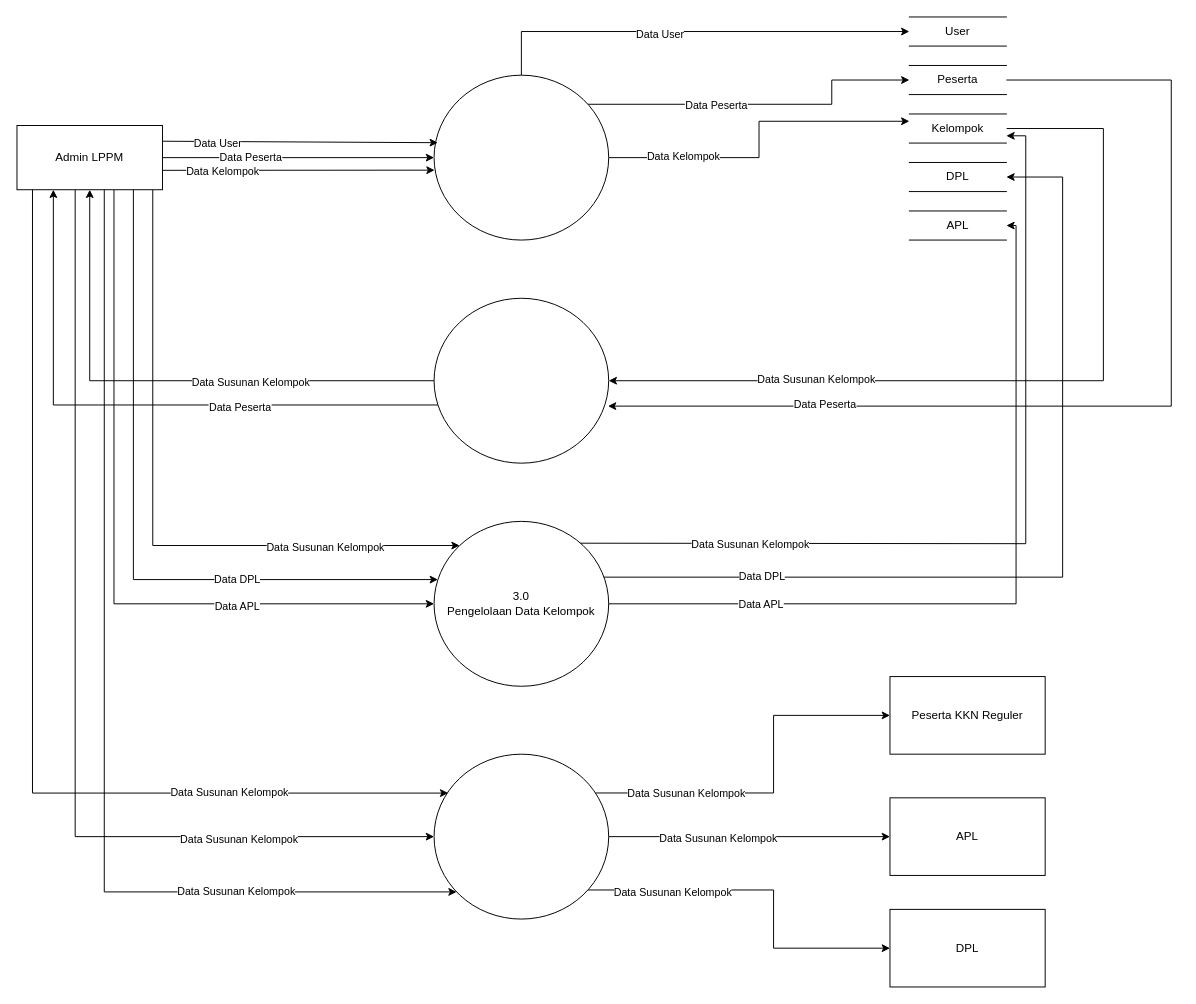
Image size: 1196x1004. Some labels were removed from this diagram. The box of each missing label's shape, as (x1, y1, x2, y2) in pixels:
1.0 Input Data Master: (433, 74, 609, 240)
2.0 Pembagian dan Penyusunan Kelompok: (433, 297, 609, 463)
4.0 Publikasi Hasil Pembagian Kelompok: (433, 753, 609, 919)
